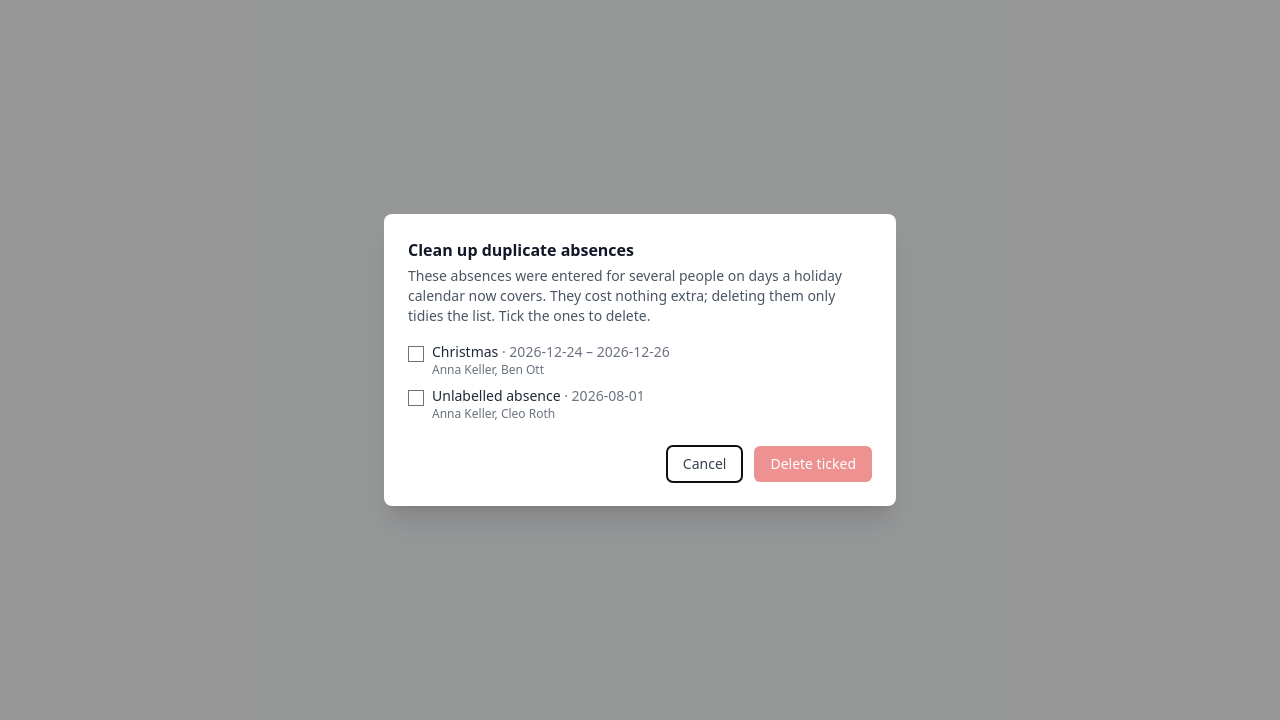
Scenario: HolidayCleanupDialog › stays open with the server's reason when the delete fails
Click the checkbox labelled "Christmas · 2026-12-24 – 2026-12-26 Anna Keller, Ben Ott" at x=416, y=354, box x1=408 y1=346 x2=424 y2=362
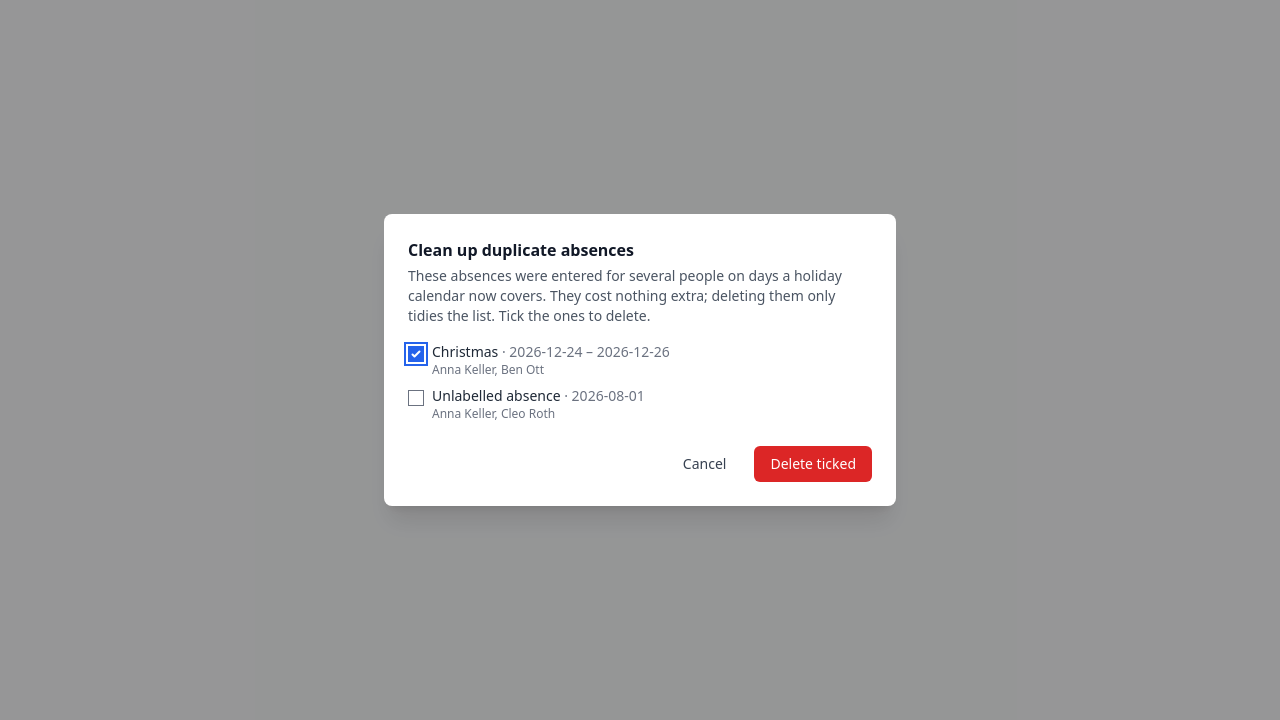
Click the button "Delete ticked" at x=813, y=464, box x1=754 y1=446 x2=872 y2=482
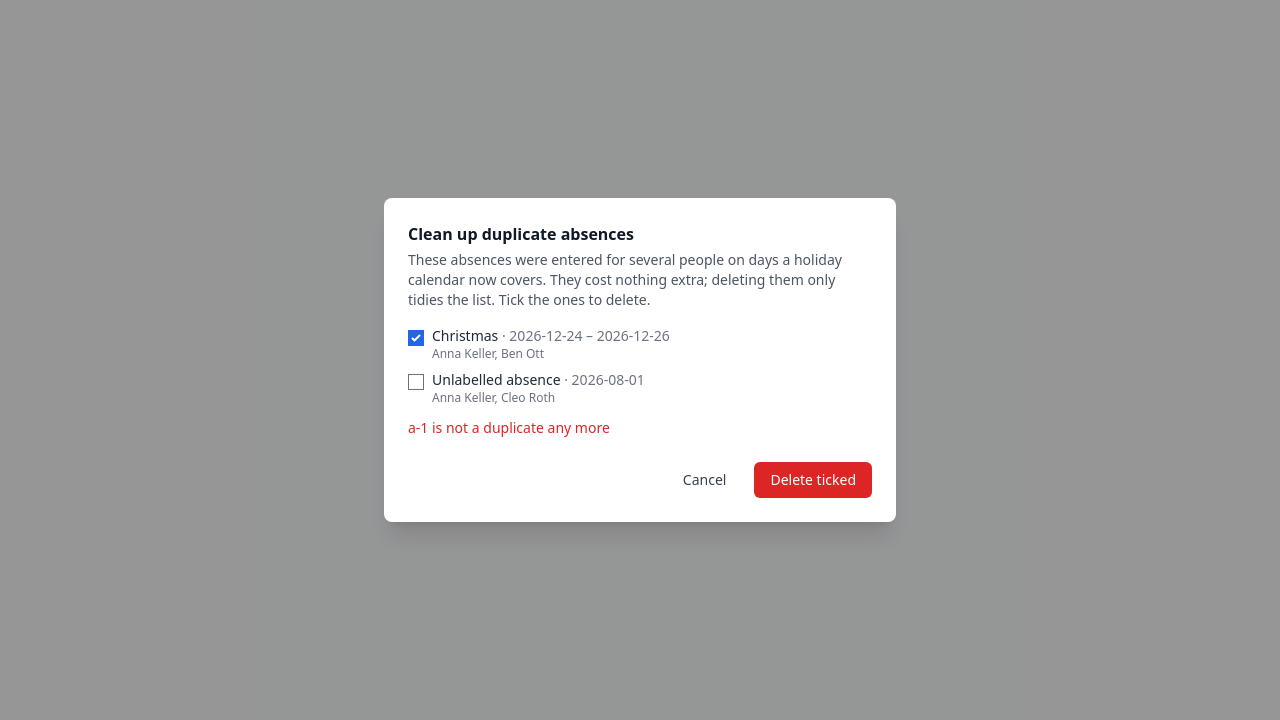
Expected: the checkbox labelled "Christmas · 2026-12-24 – 2026-12-26 Anna Keller, Ben Ott" is checked, x1=408 y1=330 x2=424 y2=346
Expected: the message reads "a-1 is not a duplicate any more", x1=408 y1=418 x2=610 y2=437
